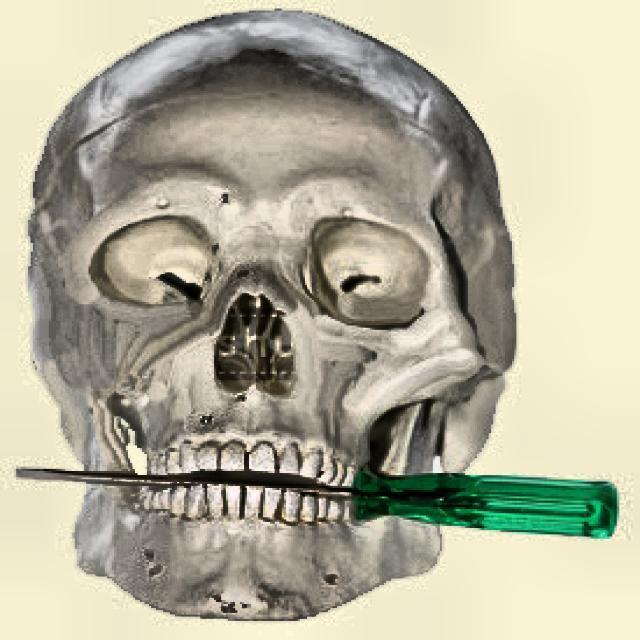screwdriver: (16, 466, 618, 540)
